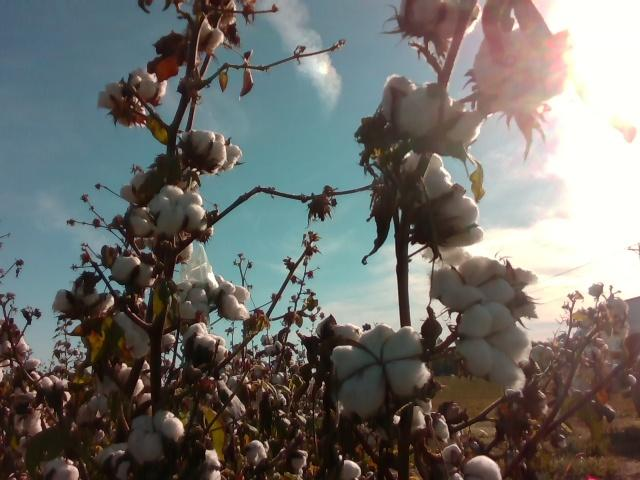cotton_ready: (335, 325, 431, 408), (403, 151, 484, 242), (474, 27, 566, 107), (385, 77, 482, 146), (455, 305, 529, 394), (430, 258, 536, 307), (126, 408, 186, 466), (399, 0, 480, 38), (97, 66, 165, 111), (91, 370, 153, 418), (115, 311, 176, 359), (150, 186, 203, 238), (185, 130, 244, 174), (53, 278, 113, 316), (393, 410, 449, 443), (114, 254, 157, 292), (185, 322, 225, 361), (420, 242, 472, 268), (174, 282, 209, 320), (99, 443, 133, 480), (220, 281, 249, 323), (453, 456, 501, 480), (120, 173, 148, 206), (126, 205, 152, 236), (197, 448, 221, 480), (45, 459, 79, 480)
